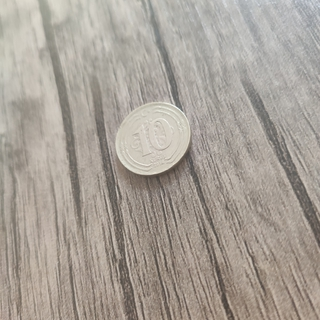10KURUS: (113, 100, 192, 179)
